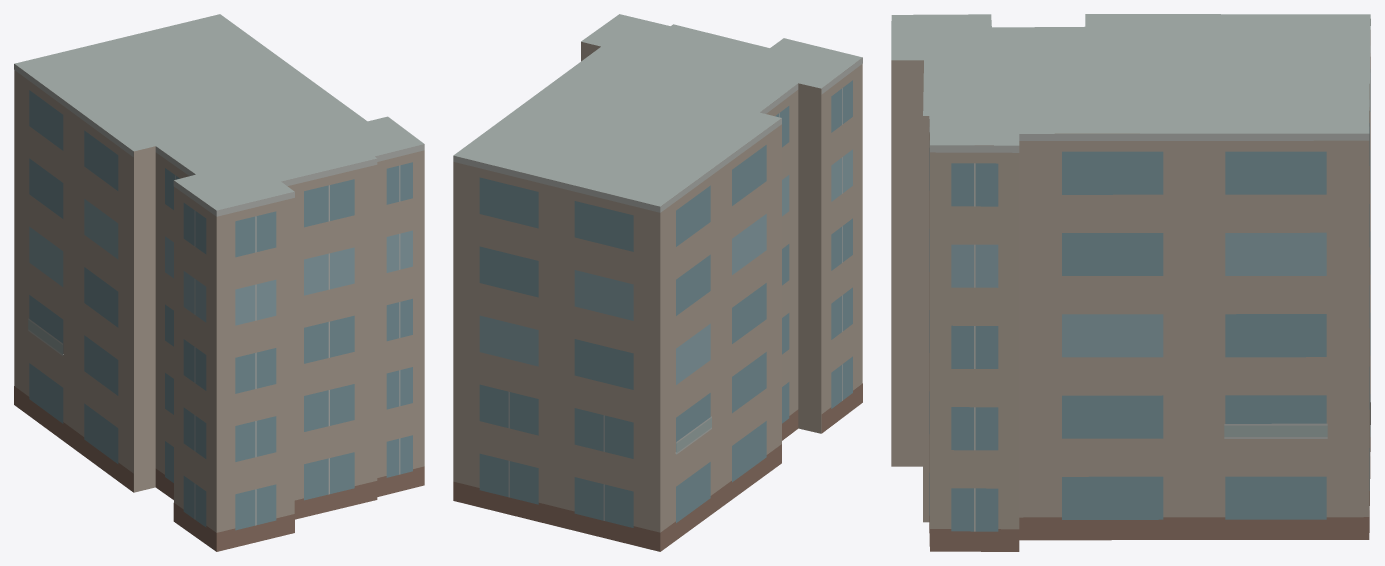
File: survey-upis-32881112.glb
3 views of the same model, side by side, from view 1: azimuth 30°, elevation 25°; view 2: azimuth 150°, elevation 25°; view 3: azimuth 270°, elevation 25° (orthographic). The views are drawn at different scales.
Parts seen in each view (by area): view 1: survey-upis-32881112.tmp; view 2: survey-upis-32881112.tmp; view 3: survey-upis-32881112.tmp.
Boxes of the visible parts, x1,y1,x2,y2 form: survey-upis-32881112.tmp: (14, 14, 424, 551); survey-upis-32881112.tmp: (453, 14, 862, 551); survey-upis-32881112.tmp: (891, 14, 1370, 551).
Size of the model in its own units: 9.48 by 13.6 by 14.55.
